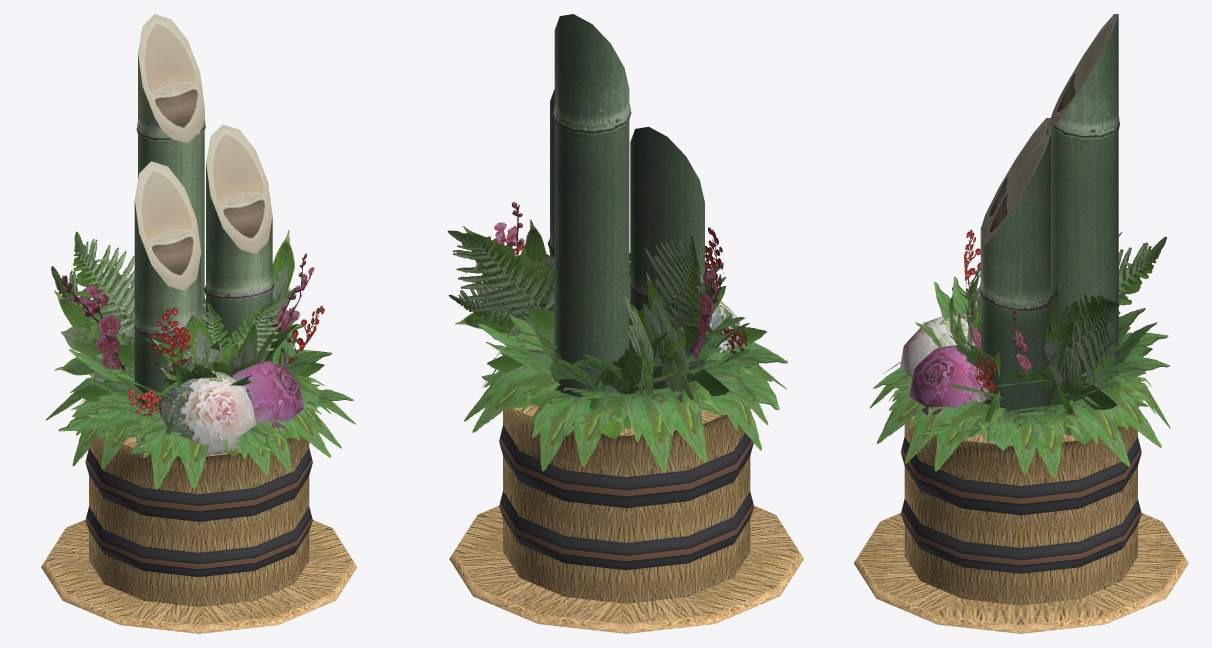
File: Kadomatsu01.fbx
3 renders of one model, left to right at view 1: azimuth 30°, elevation 25°; view 2: azimuth 150°, elevation 25°; view 3: azimuth 270°, elevation 25°, orthographic. The views are drawn at different scales.
Visible parts, largest first — view 1: Kadomatsu01; view 2: Kadomatsu01; view 3: Kadomatsu01.
Part boxes in pixels (x1,y1,x2,y2): Kadomatsu01: (41, 14, 356, 633); Kadomatsu01: (447, 14, 803, 633); Kadomatsu01: (854, 14, 1188, 633).
Size of the model in its own units: 141 by 218 by 126.
